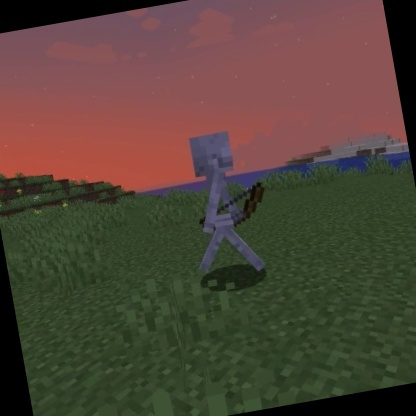skeleton: (172, 122, 283, 286)
